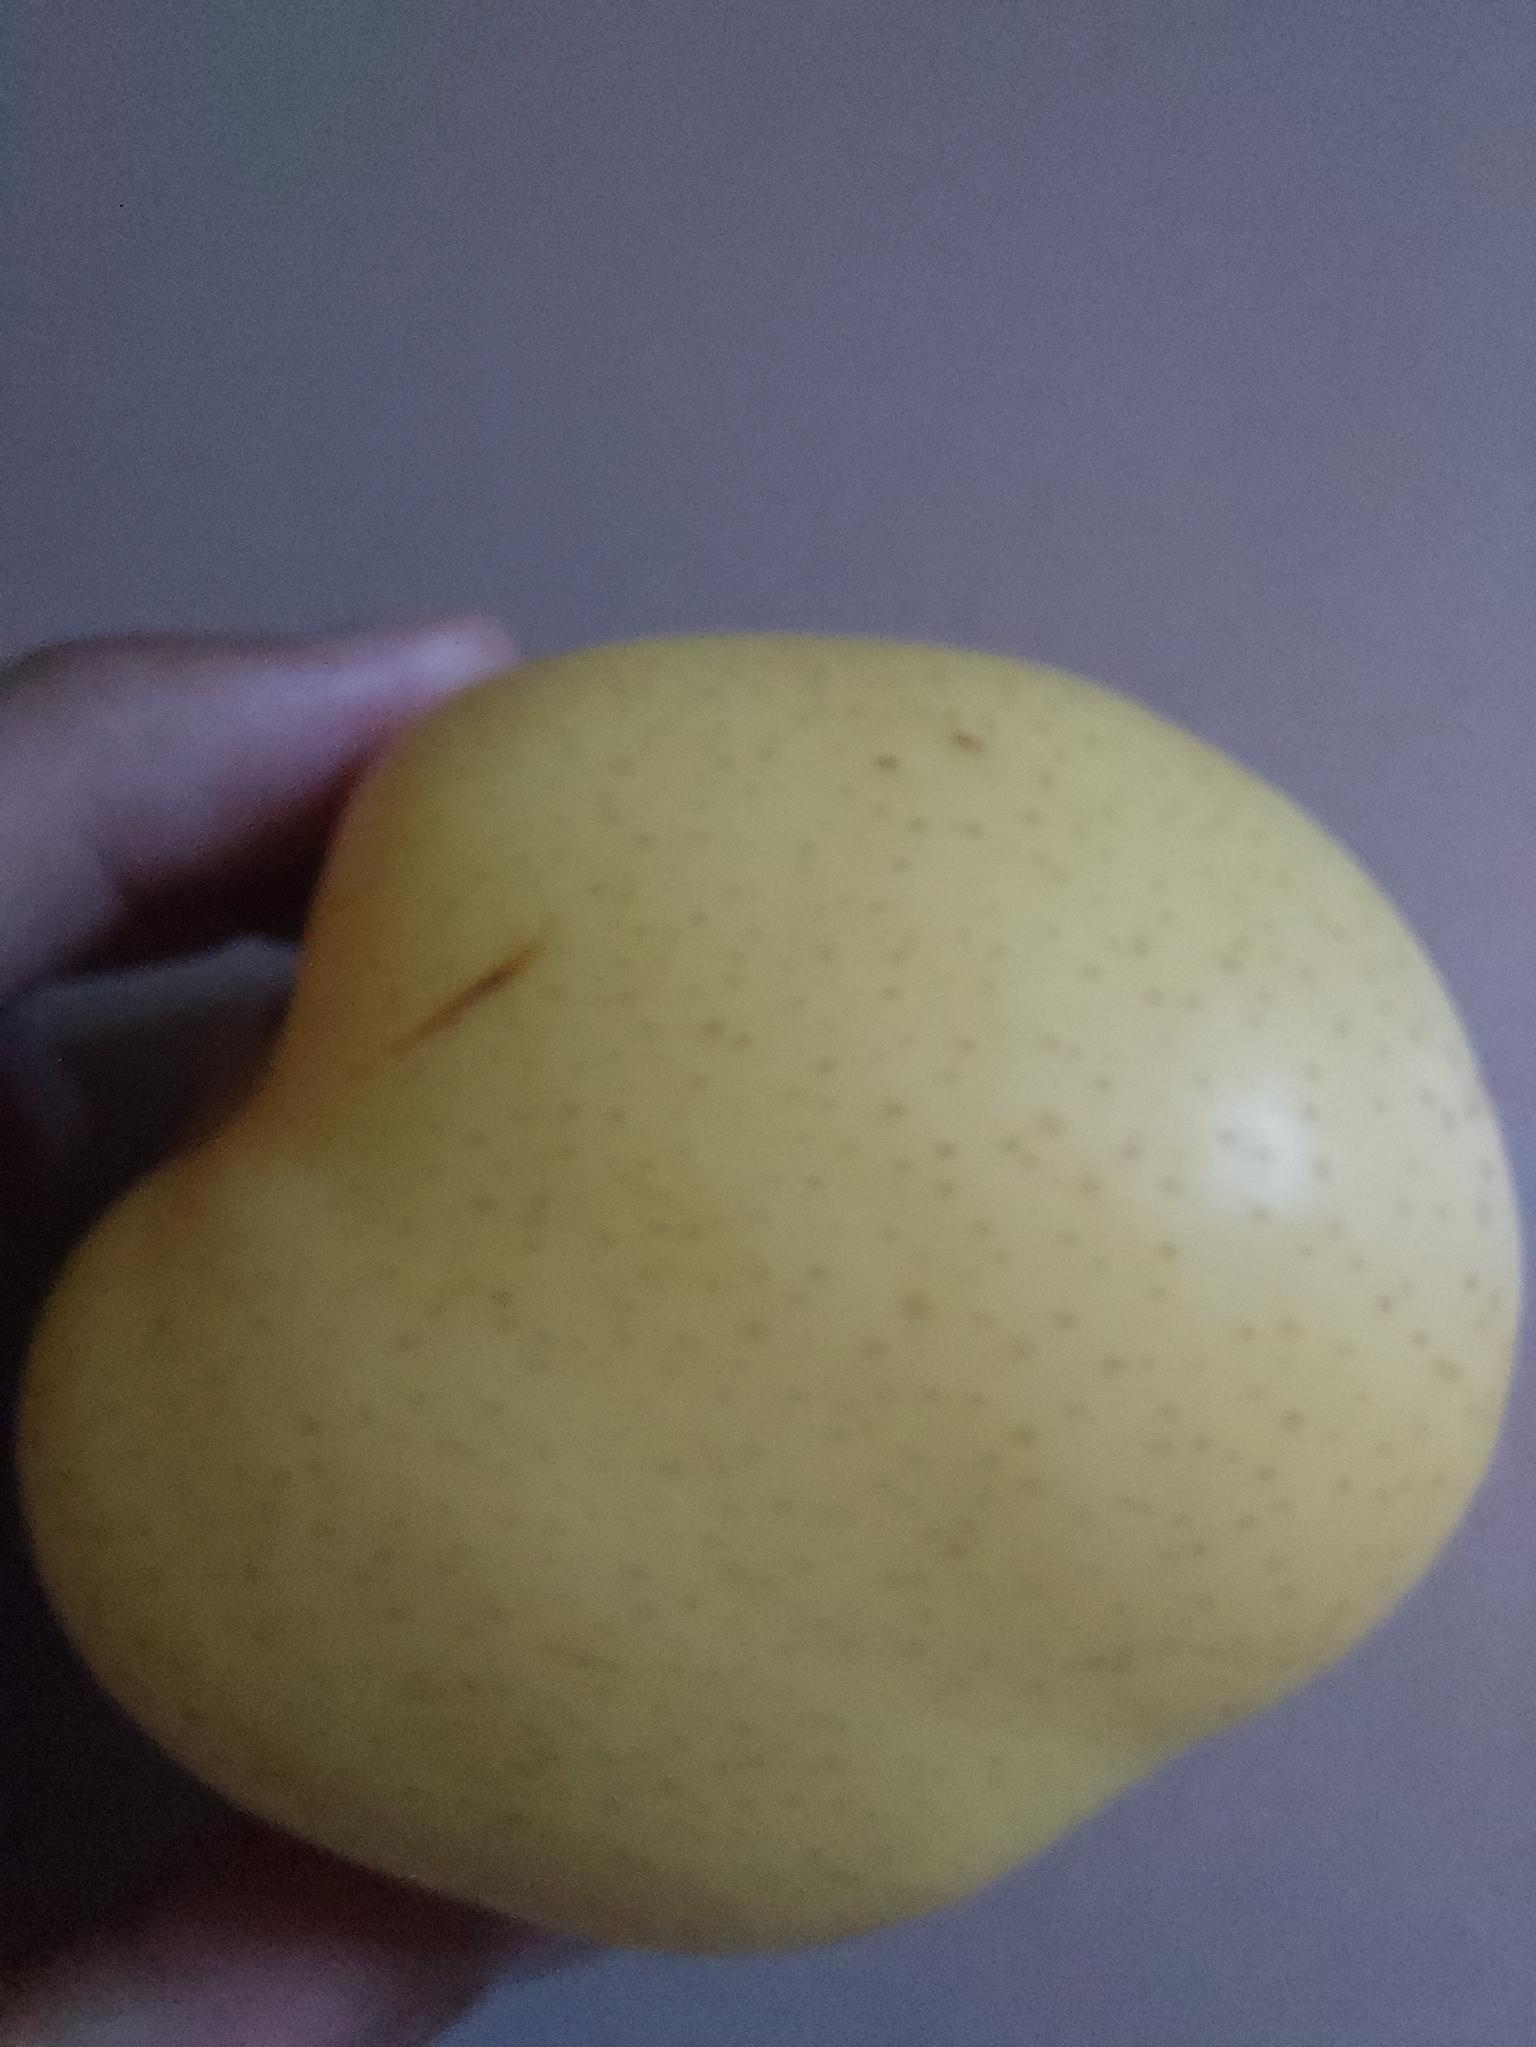Good Pear: (19, 942, 1515, 1965)
